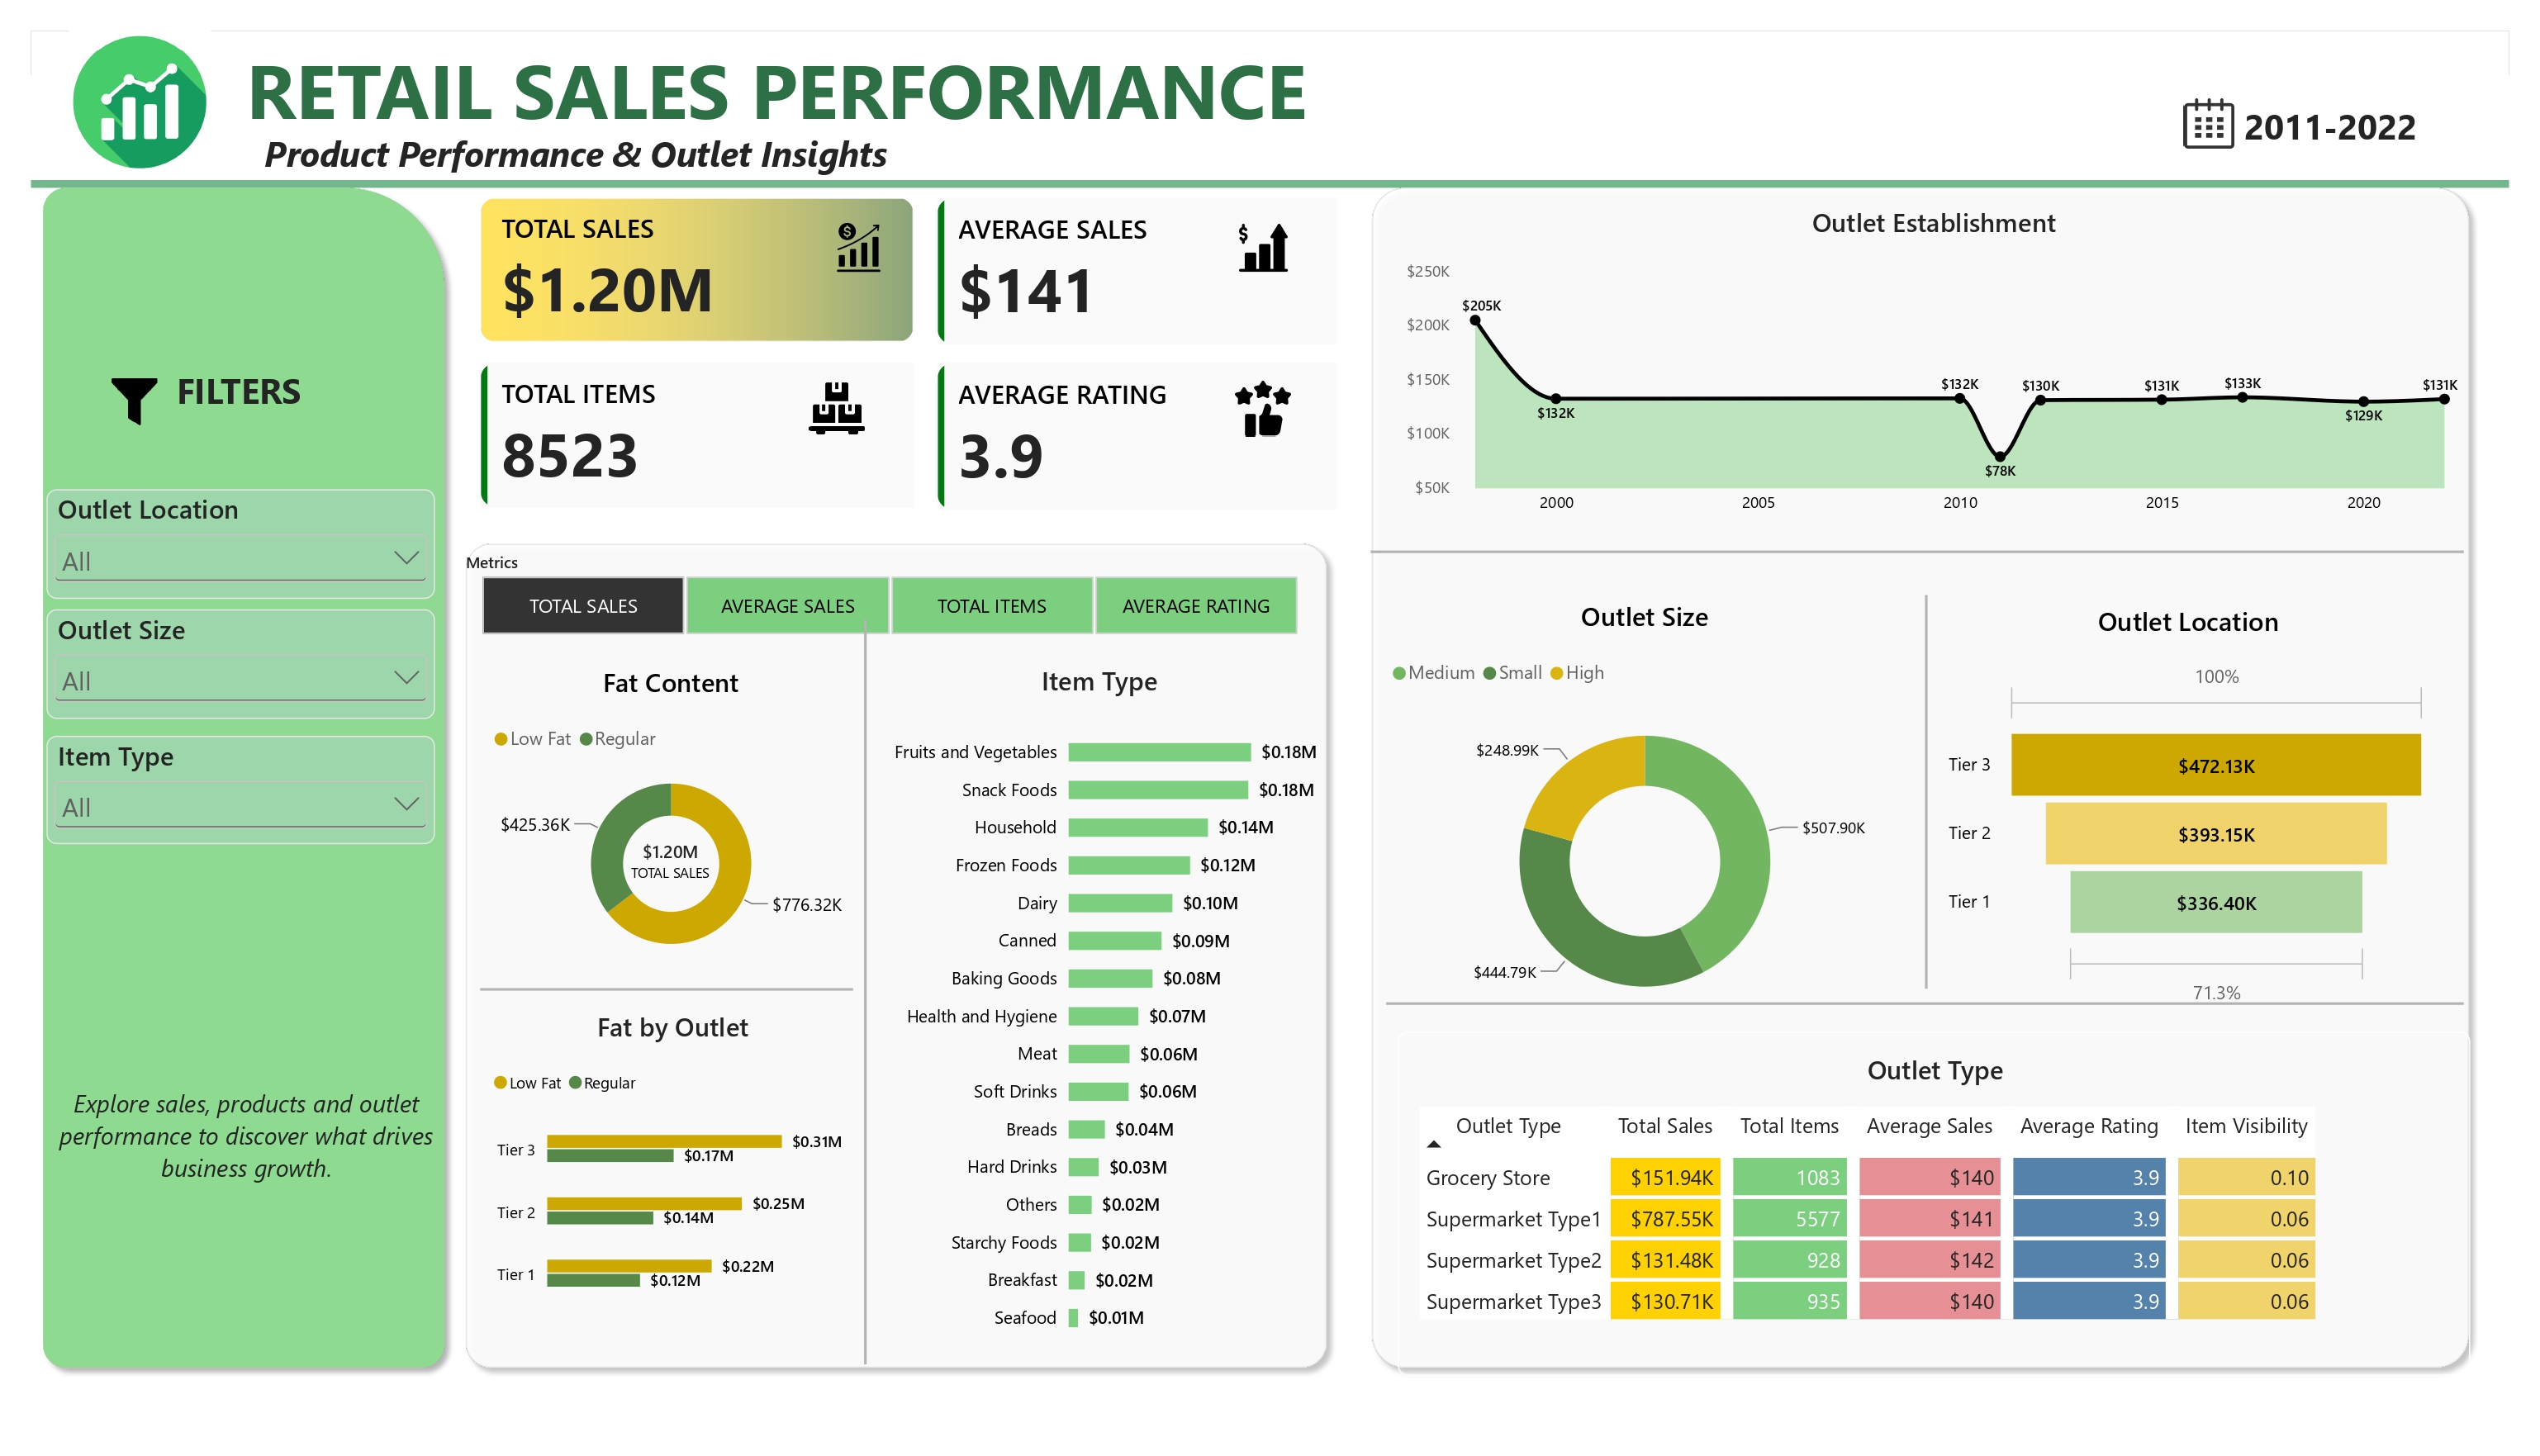

This screenshot's page, from the dashboard's own definition file:
{"tool":"powerbi","page":{"name":"Duplicate of Page 1","canvas":[1920,1080],"ordinal":0},"visuals":[{"type":"shape","box":[327.5,388.5,685,656.5],"z":0,"group":"g1"},{"type":"shape","box":[0,112.1,328.8,932.9],"z":1000,"group":"g1"},{"type":"cardVisual","title":"Total Sales","fields":{"Data":["Measures (2).Total Sales"]},"box":[348,129.4,336,112.3],"z":2000,"group":"g1"},{"type":"cardVisual","title":"Average Rating","fields":{"Data":["Measures (2).Average Rating"]},"box":[702,257.2,310,114],"z":3000,"group":"g1"},{"type":"cardVisual","title":"Total Items","fields":{"Data":["Measures (2).Total Items"]},"box":[348,257.2,336,112.3],"z":4000,"group":"g1"},{"type":"cardVisual","title":"Average Sales","fields":{"Data":["Measures (2).Average Sales"]},"box":[702,129.4,310,114],"z":5000,"group":"g1"},{"type":"donutChart","title":" Fat Content","fields":{"Category":["BlinkIT Grocery Data.Item Fat Content"],"Y":["Measures (2).TOTAL SALES"]},"box":[341.9,475.7,307.7,267.4],"z":6000,"group":"g1"},{"type":"image","box":[608,148.4,66.8,39.2],"z":7000,"group":"g1"},{"type":"image","box":[926,271,57.3,43.3],"z":8000,"group":"g1"},{"type":"image","box":[910,148.4,90,39.7],"z":9000,"group":"g1"},{"type":"image","box":[580,271,88.3,43.3],"z":10000,"group":"g1"},{"type":"slicer","fields":{"Values":["Metrics.Metrics"]},"box":[329.3,402.7,670.4,65.9],"z":11000,"group":"g1"},{"type":"cardVisual","fields":{"Data":["Measures (2).TOTAL SALES"]},"box":[428.2,594.9,136,96.9],"z":12000,"group":"g1"},{"type":"clusteredBarChart","title":"Fat by Outlet","fields":{"Category":["BlinkIT Grocery Data.Outlet Location Type"],"Series":["BlinkIT Grocery Data.Item Fat Content"],"Y":["Measures (2).TOTAL SALES"]},"box":[341.9,743.2,311.5,267.4],"z":13000,"group":"g1"},{"type":"shape","box":[348.4,677.7,288.7,129.6],"z":14000,"group":"g1"},{"type":"shape","box":[590.3,456.2,112.9,576.8],"z":15000,"group":"g1"},{"type":"clusteredBarChart","title":" Item Type","fields":{"Category":["BlinkIT Grocery Data.Item Type"],"Y":["Measures (2).TOTAL SALES"]},"box":[642.5,474.9,370,557.1],"z":16000,"group":"g1"},{"type":"shape","box":[1030,112.1,868,932.9],"z":17000,"group":"g1"},{"type":"lineChart","title":"Outlet Establishment ","fields":{"Category":["BlinkIT Grocery Data.Outlet Establishment Year"],"Y":["Measures (2).TOTAL SALES"]},"box":[1049.8,120.5,849.4,273.4],"z":18000,"group":"g1"},{"type":"shape","box":[0,90.7,1920,54.9],"z":19000},{"type":"shape","box":[1037.5,338.8,847.5,129.6],"z":19000,"group":"g1"},{"type":"donutChart","title":"Outlet Size","fields":{"Category":["BlinkIT Grocery Data.Outlet Size"],"Y":["Measures (2).TOTAL SALES"]},"box":[1037.9,425.4,424.7,364.8],"z":20000,"group":"g1"},{"type":"funnel","title":"Outlet Location","fields":{"Category":["BlinkIT Grocery Data.Outlet Location Type"],"Y":["Measures (2).TOTAL SALES"]},"box":[1470,429.5,402.5,343.4],"z":21000,"group":"g1"},{"type":"shape","box":[1412.5,437.6,112.5,304.5],"z":22000,"group":"g1"},{"type":"shape","box":[1049.8,688,835.1,131],"z":23000,"group":"g1"},{"type":"pivotTable","title":"Outlet Type","fields":{"Rows":["BlinkIT Grocery Data.Outlet Type"],"Values":["Measures (2).TOTAL SALES","Measures (2).TOTAL ITEMS","Measures (2).AVERAGE SALES","Measures (2).AVERAGE RATING","Avg(BlinkIT Grocery Data.Item Visibility)"]},"box":[1059.3,775.4,830.3,266.5],"z":24000,"group":"g1"},{"type":"slicer","fields":{"Values":["BlinkIT Grocery Data.Outlet Location Type"]},"box":[11.9,355.1,300.6,84.5],"z":25000,"group":"g1"},{"type":"slicer","fields":{"Values":["BlinkIT Grocery Data.Outlet Size"]},"box":[11.9,448.2,300.6,84.5],"z":26000,"group":"g1"},{"type":"slicer","fields":{"Values":["BlinkIT Grocery Data.Item Type"]},"box":[11.9,546,300.6,84.5],"z":27000,"group":"g1"},{"type":"group","id":"g1","title":"Group 1","box":[0,112.1,1899.2,932.9],"z":28001},{"type":"textbox","box":[167,4.8,932.9,140.8],"z":28002},{"type":"textbox","box":[181.3,76.3,484.3,66.8],"z":28003},{"type":"image","box":[0,0,167,109.8],"z":28004},{"type":"image","box":[1632,52.5,109.8,38.2],"z":28005},{"type":"textbox","box":[1715.5,54.9,157.5,38.2],"z":28006},{"type":"textbox","box":[16.7,818.4,300.6,128.8],"z":28007},{"type":"image","box":[59.6,260.1,40.6,52.5],"z":28008},{"type":"textbox","box":[59.6,260.1,202.8,66.8],"z":28009}]}

Visuals, with their boxes on the page's 1920x1080 design canvas (x1, y1, x2, y2). These are canvas units, not pixel positions in the 2540x1456 screenshot, which may show the page scaled, cropped or inside an application window:
shape: [328,388,1012,1045]
shape: [0,112,329,1045]
"Total Sales" cardVisual: [348,129,684,242]
"Average Rating" cardVisual: [702,257,1012,371]
"Total Items" cardVisual: [348,257,684,370]
"Average Sales" cardVisual: [702,129,1012,243]
" Fat Content" donutChart: [342,476,650,743]
image: [608,148,675,188]
image: [926,271,983,314]
image: [910,148,1000,188]
image: [580,271,668,314]
slicer - Metrics.Metrics: [329,403,1000,469]
cardVisual - Measures (2).TOTAL SALES: [428,595,564,692]
"Fat by Outlet" clusteredBarChart: [342,743,653,1011]
shape: [348,678,637,807]
shape: [590,456,703,1033]
" Item Type" clusteredBarChart: [642,475,1012,1032]
shape: [1030,112,1898,1045]
"Outlet Establishment " lineChart: [1050,120,1899,394]
shape: [0,91,1920,146]
shape: [1038,339,1885,468]
"Outlet Size" donutChart: [1038,425,1463,790]
"Outlet Location" funnel: [1470,430,1872,773]
shape: [1412,438,1525,742]
shape: [1050,688,1885,819]
"Outlet Type" pivotTable: [1059,775,1890,1042]
slicer - BlinkIT Grocery Data.Outlet Location Type: [12,355,312,440]
slicer - BlinkIT Grocery Data.Outlet Size: [12,448,312,533]
slicer - BlinkIT Grocery Data.Item Type: [12,546,312,630]
"Group 1" group: [0,112,1899,1045]
textbox: [167,5,1100,146]
textbox: [181,76,666,143]
image: [0,0,167,110]
image: [1632,52,1742,91]
textbox: [1716,55,1873,93]
textbox: [17,818,317,947]
image: [60,260,100,313]
textbox: [60,260,262,327]
